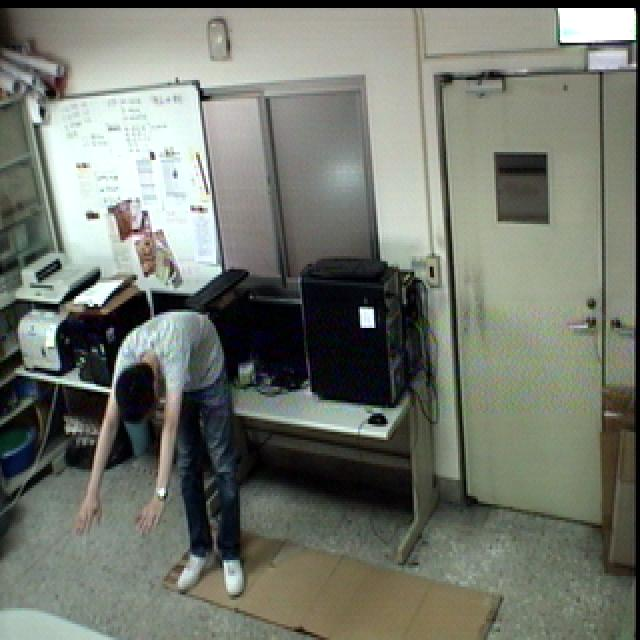bend: (63, 302, 258, 609)
